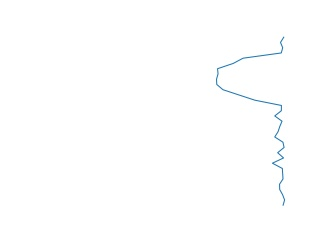distalBar: (212, 38, 292, 206)
